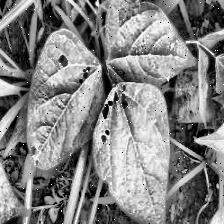ALS: (95, 80, 176, 224), (25, 33, 102, 177), (106, 0, 194, 104), (0, 144, 29, 224)
